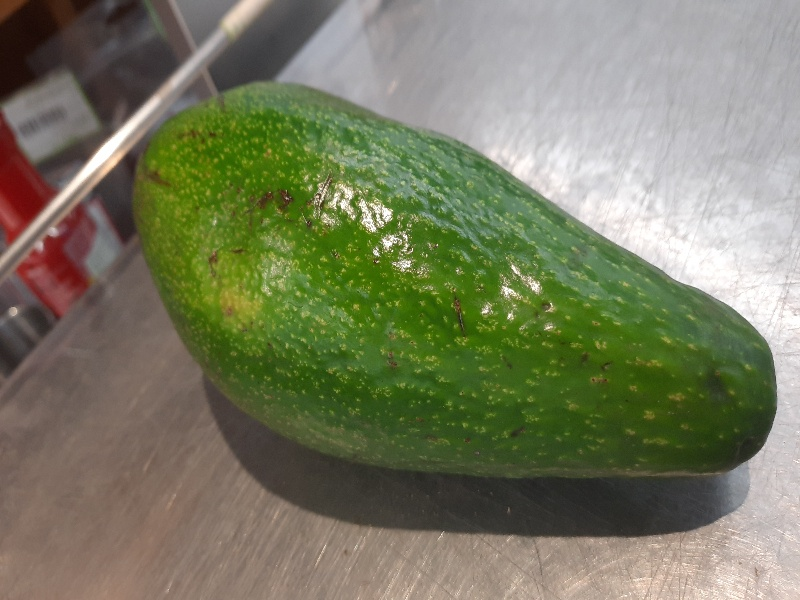fruit: (122, 77, 781, 481)
